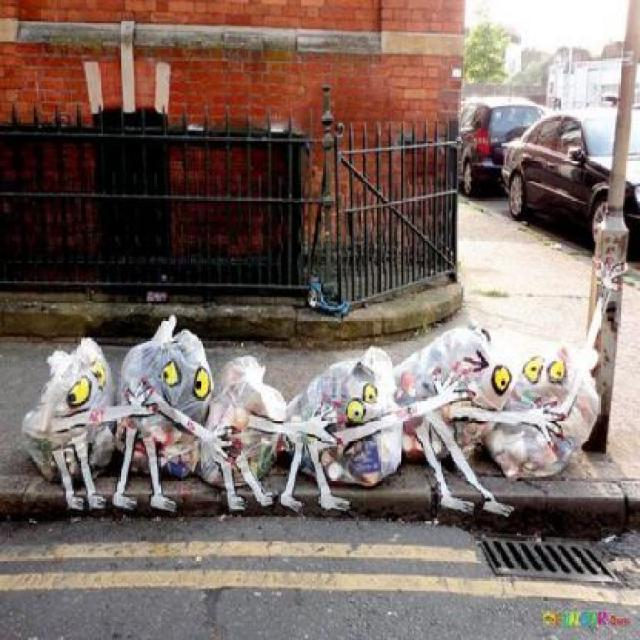garbage: (26, 343, 594, 484)
